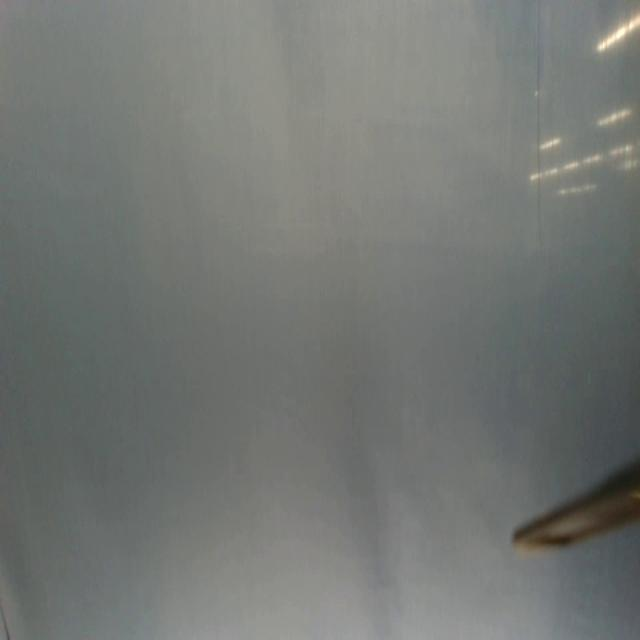crease: (533, 0, 545, 244)
